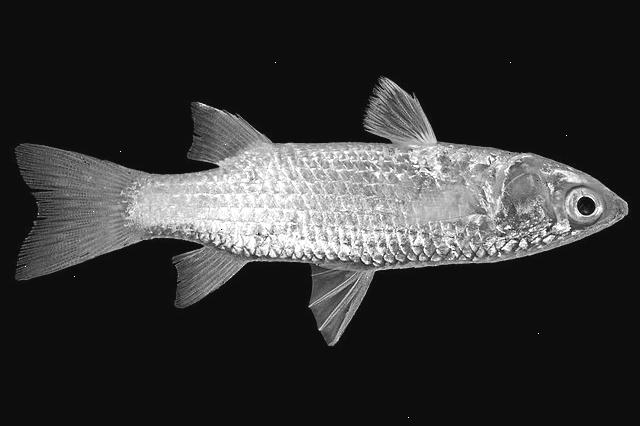Mulut: (594, 176, 630, 232)
Sirip Anal: (177, 89, 287, 181)
Sirip Dada: (390, 182, 492, 228)
Sirip Ekor: (5, 135, 133, 285)
Sirip Perut: (354, 62, 438, 158)
Sirip Punggung: (165, 241, 383, 349)
